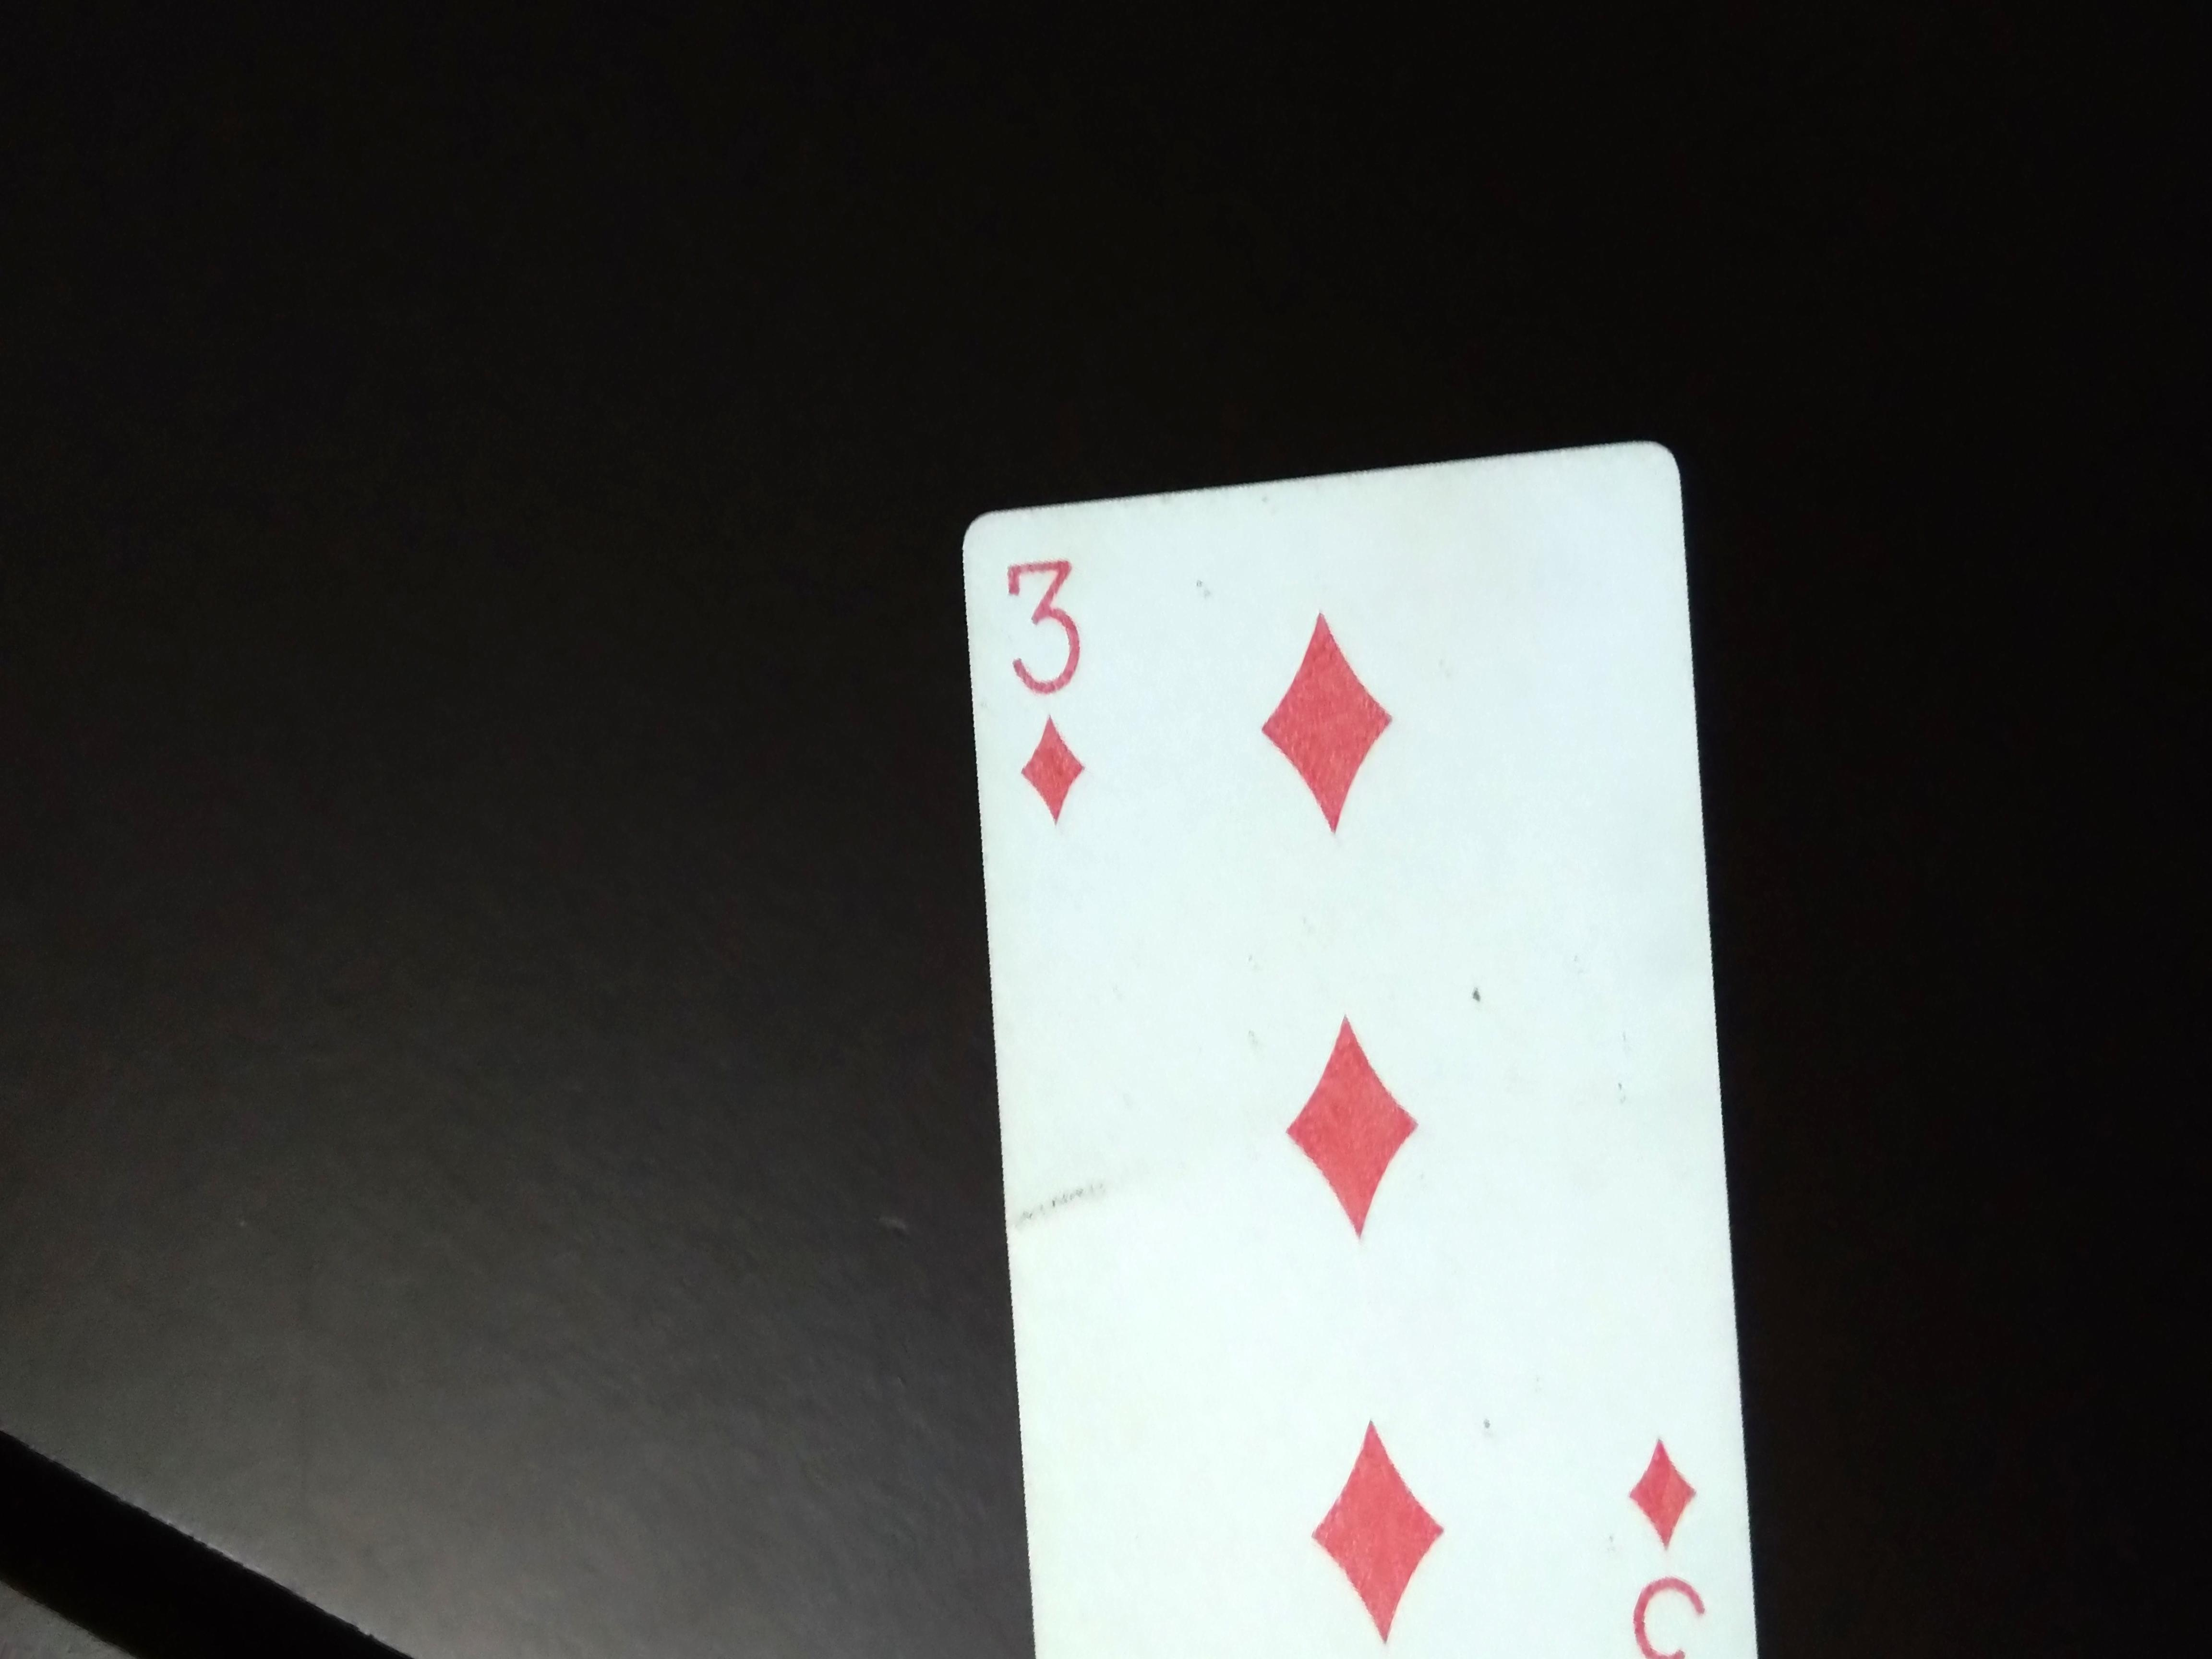3D: (984, 525, 1141, 857)
